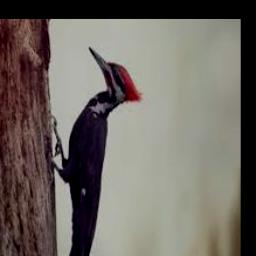Woodpecker: (50, 45, 141, 256)
